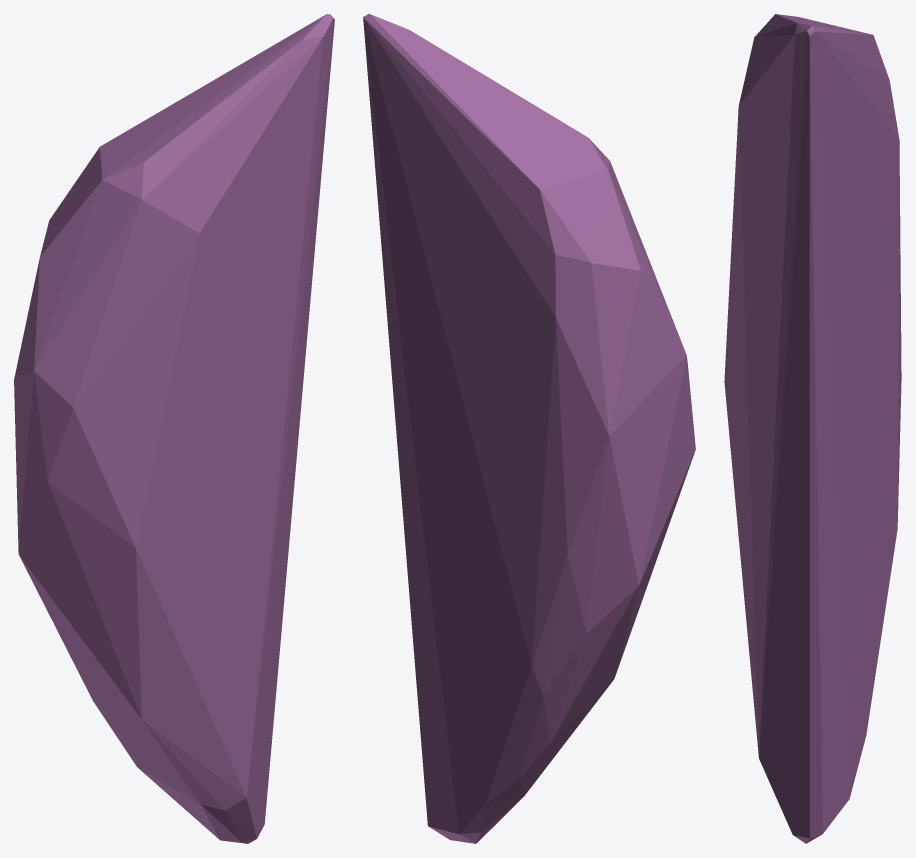
Rendered from food_produce_banana_h01.glb.
The picture shows the model from 3 angles, left to right: view 1: azimuth 30°, elevation 25°; view 2: azimuth 150°, elevation 25°; view 3: azimuth 270°, elevation 25°; orthographic projection. The views are drawn at different scales.
Visible parts, largest first — view 1: geometry_0; view 2: geometry_0; view 3: geometry_0.
Boxes of the visible parts, x1,y1,x2,y2 form: geometry_0: (14, 14, 334, 843); geometry_0: (363, 14, 695, 843); geometry_0: (724, 14, 901, 843).
Bounding box in the file's own units: 0.1935 × 0.4792 × 0.0896.
